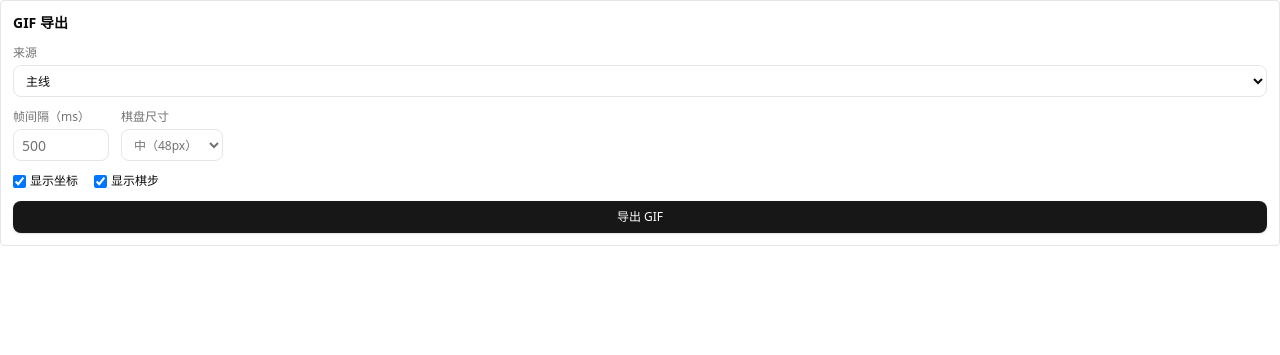
it: GifExportPanel › exports a selected variation
Select "指定变例" in the dropdown with test id "gif-source" at (640, 81), box x1=13 y1=65 x2=1267 y2=97
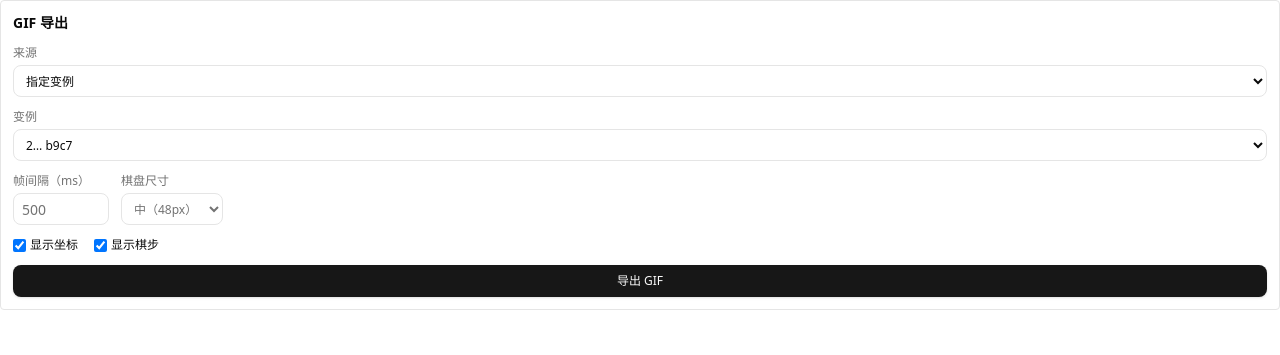
Select "3. b0c2" in the dropdown with test id "gif-variation" at (640, 145), box x1=13 y1=129 x2=1267 y2=161
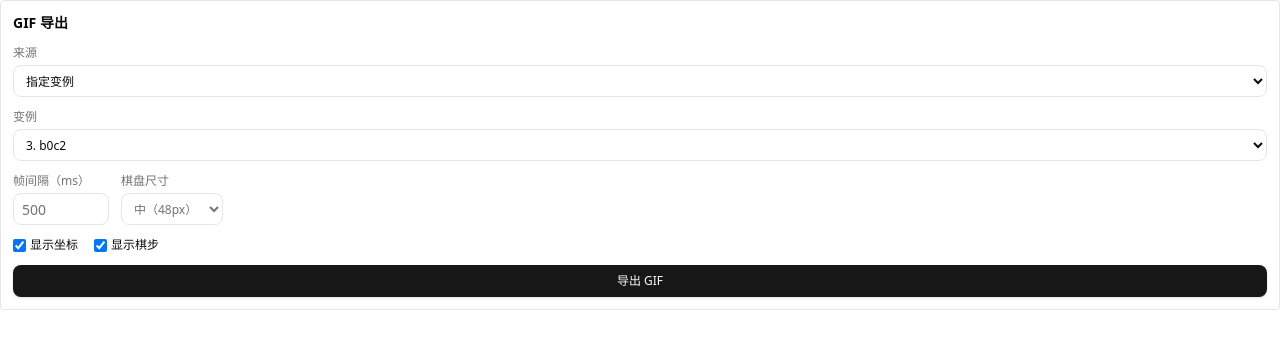
Click the button with test id "gif-export".
click(640, 281)  # box x1=13 y1=265 x2=1267 y2=297
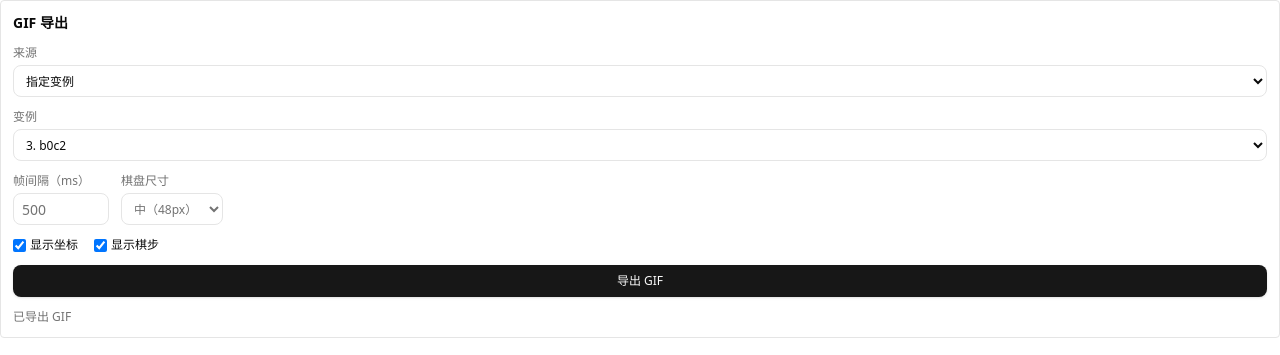
Now the text with test id "gif-message" shows "已导出", box x1=13 y1=308 x2=71 y2=325
